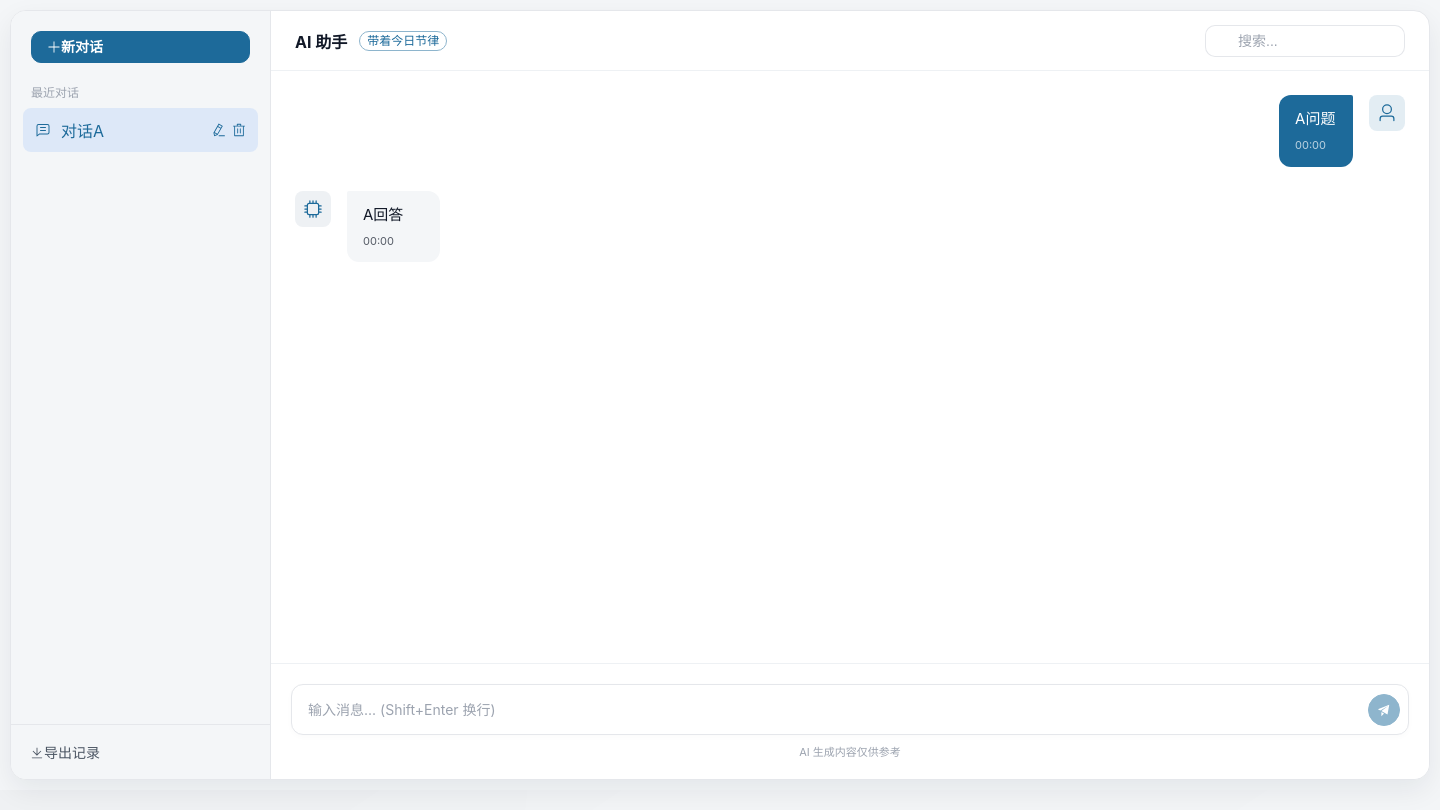
Test case: AIChat.vue › shows no-match copy instead of the welcome page
This screenshot has width=1440, height=810.
Type "zzzzz" into the field with placeholder "搜索..." at x=1316, y=40, box [1238,26,1394,56]
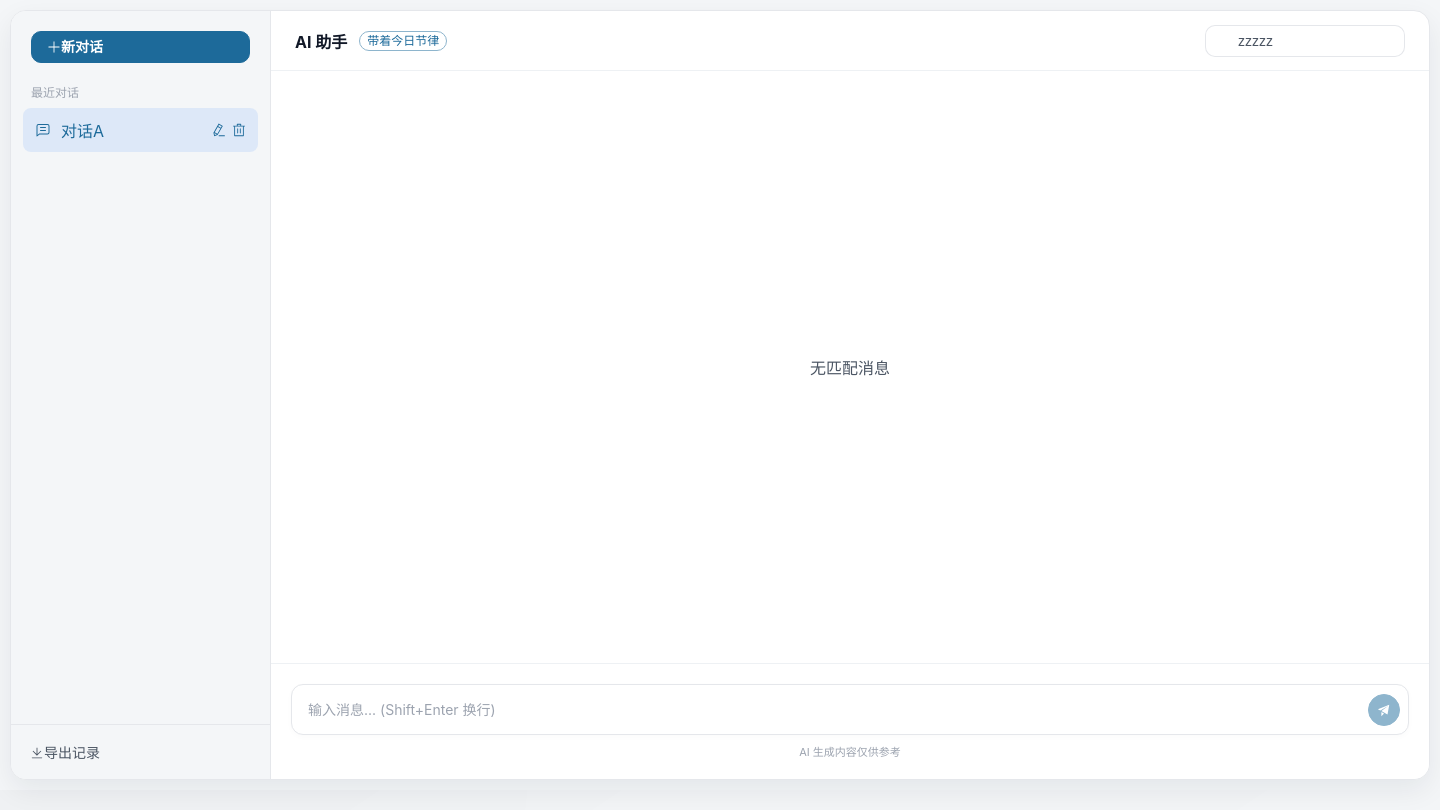
expect the text "无匹配消息" is shown: met, box [810,358,890,378]
